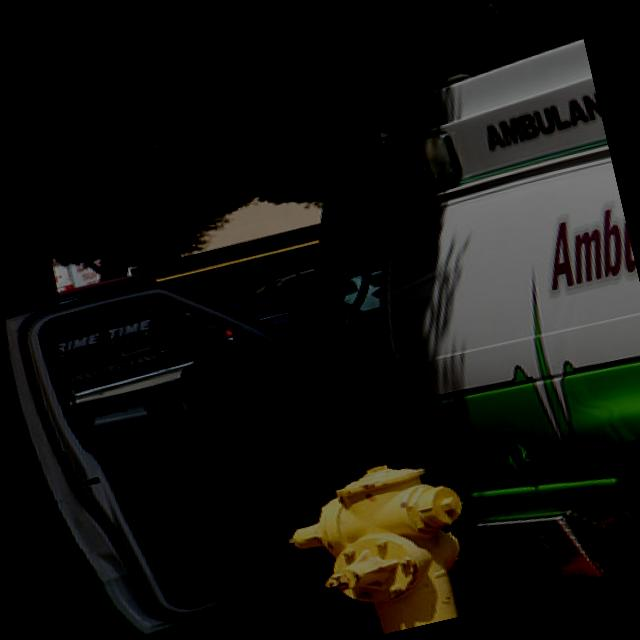Vehicle: (0, 30, 640, 640), (182, 279, 322, 368)
